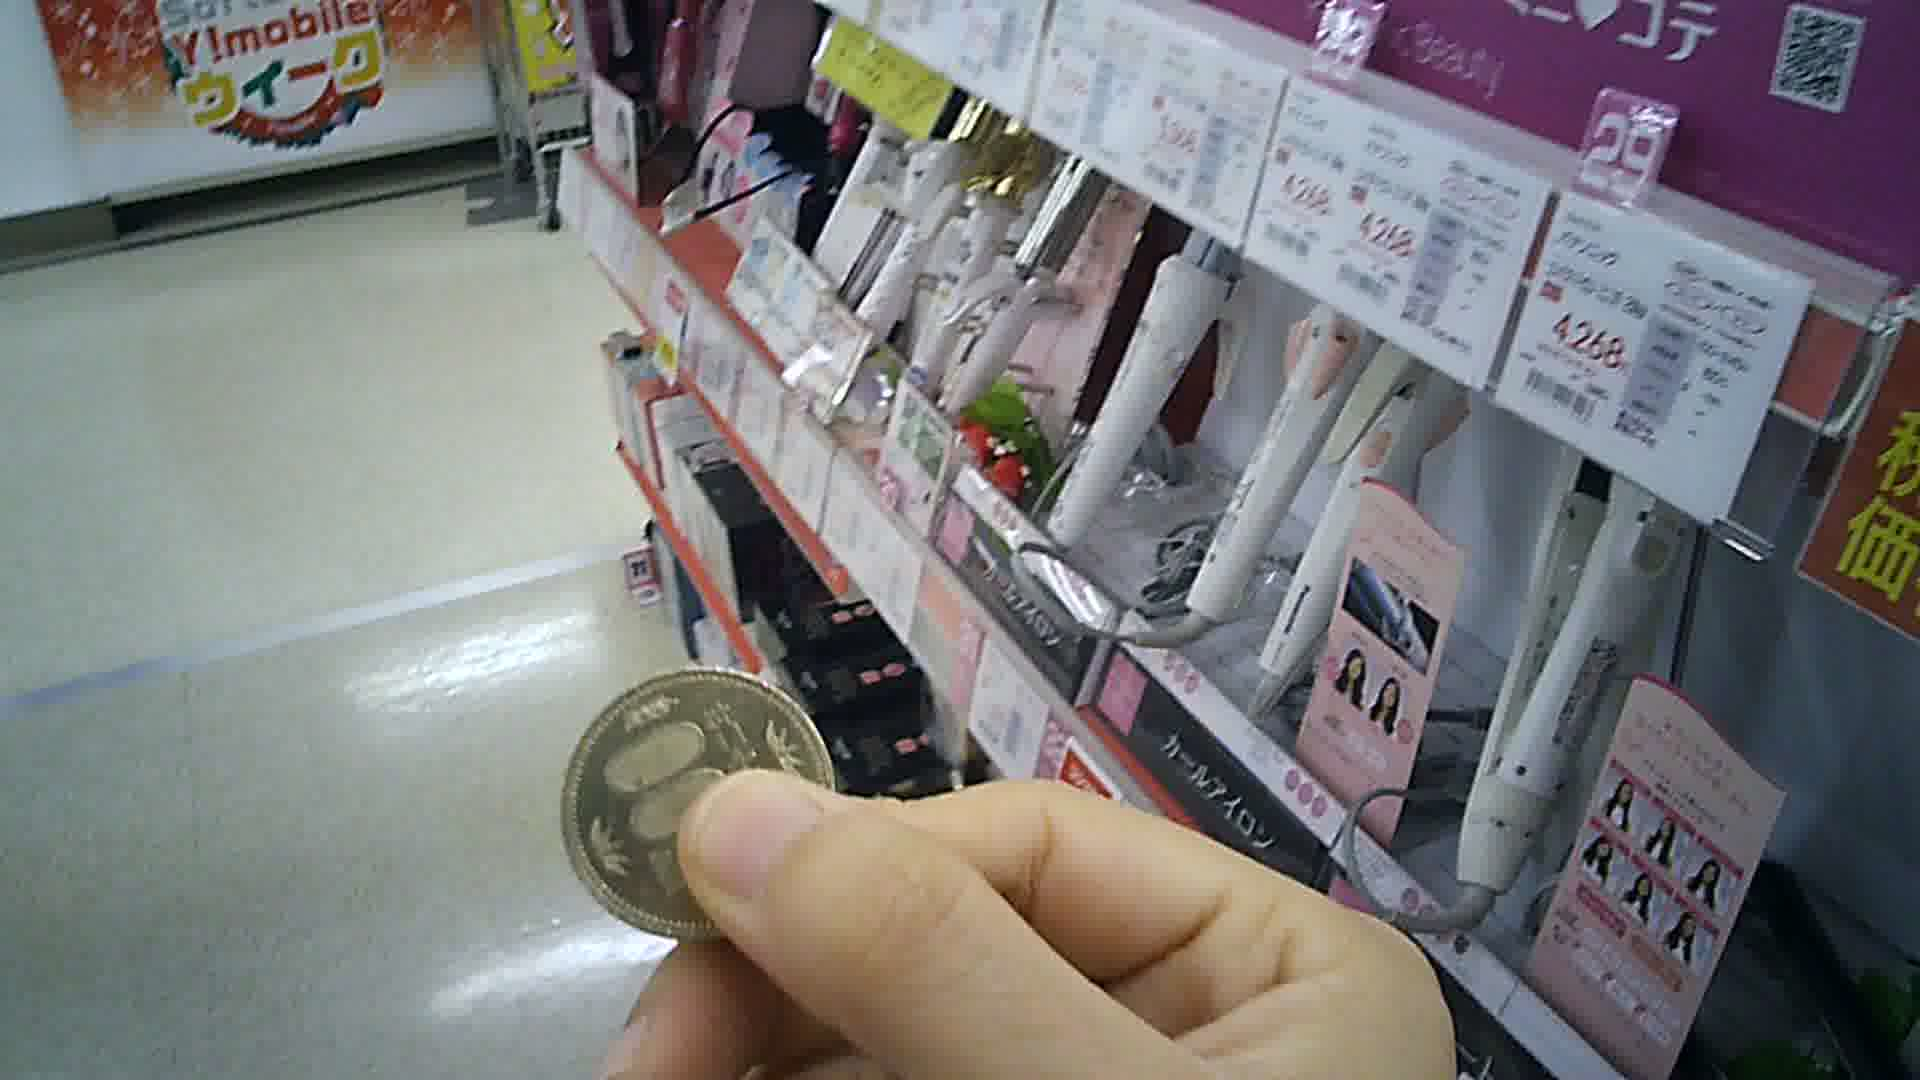500 Yen: (556, 667, 868, 942)
